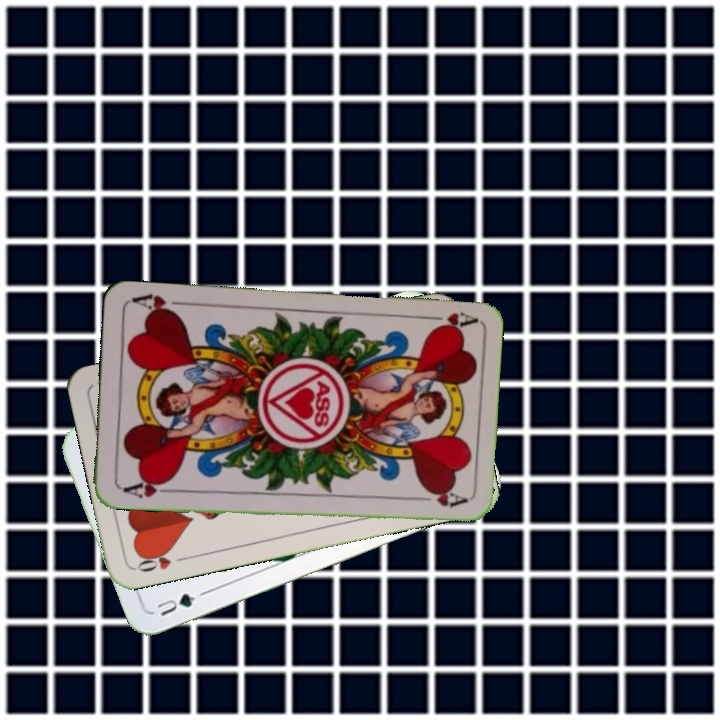GU: (153, 588, 207, 619)
HA: (118, 475, 177, 502), (418, 308, 477, 334)
HO: (131, 545, 190, 575)
